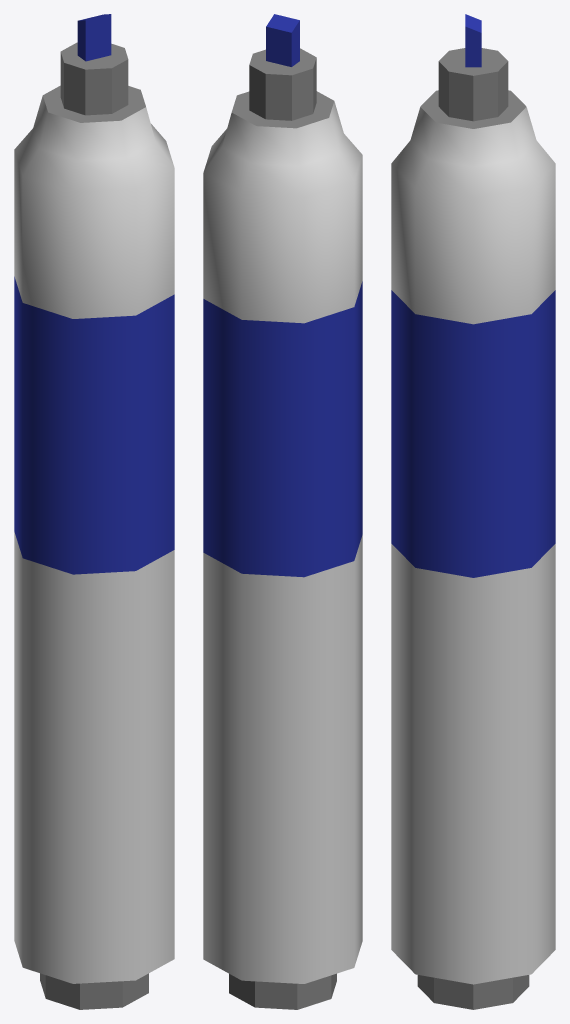
Rendered from Marker.fbx.
3 renders of one model, left to right at view 1: azimuth 30°, elevation 25°; view 2: azimuth 150°, elevation 25°; view 3: azimuth 270°, elevation 25°, orthographic.
Parts seen in each view (by area): view 1: Marker; view 2: Marker; view 3: Marker.
Part boxes in pixels (x1=…): Marker: x1=14, y1=14, x2=174, y2=1009; Marker: x1=203, y1=14, x2=362, y2=1009; Marker: x1=391, y1=14, x2=555, y2=1009.
Size of the model in its own units: 1.8 by 11.67 by 1.8.
